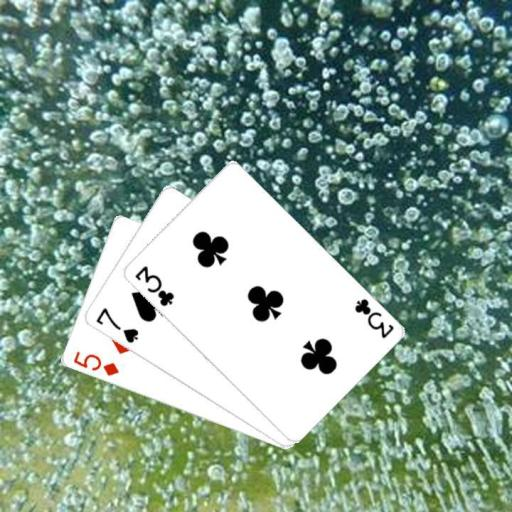3C: (131, 262, 176, 308), (351, 295, 396, 341)
5D: (70, 348, 120, 378)
7S: (92, 304, 140, 345)
